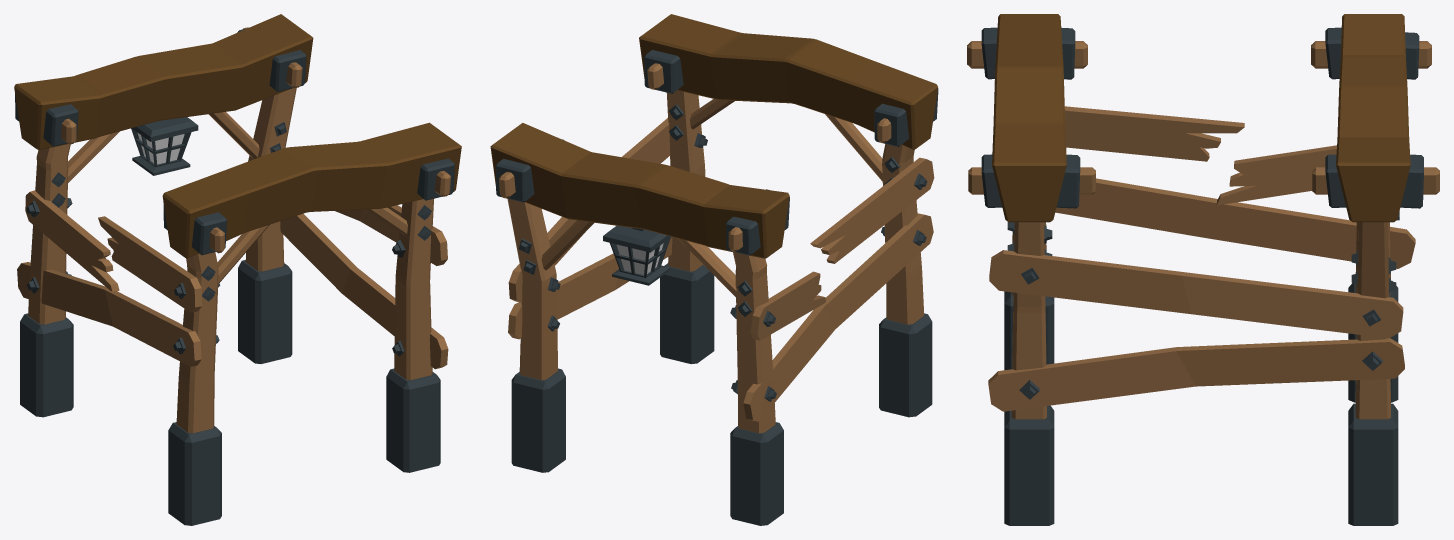
File: mine_arch_double.fbx
3 renders of one model, left to right at view 1: azimuth 30°, elevation 25°; view 2: azimuth 150°, elevation 25°; view 3: azimuth 270°, elevation 25°, orthographic. The views are drawn at different scales.
Parts seen in each view (by area): view 1: Plane.001; view 2: Plane.001; view 3: Plane.001.
Part boxes in pixels (left/top/right/bottom): Plane.001: left=14, top=14, right=461, bottom=525; Plane.001: left=490, top=14, right=938, bottom=525; Plane.001: left=967, top=14, right=1439, bottom=525.
Bounding box in the file's own units: 2.62 × 3.05 × 3.4.
